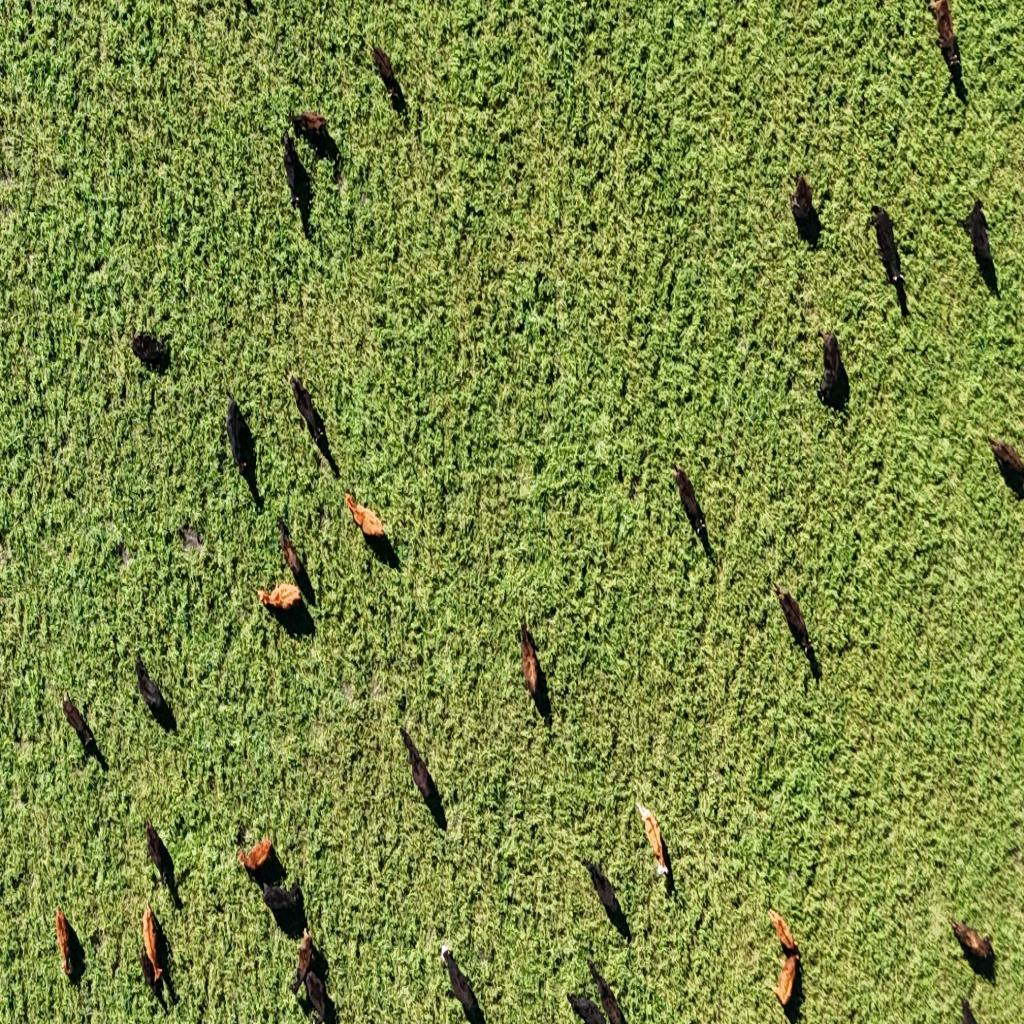cow: (928, 0, 971, 101), (290, 374, 335, 470), (772, 580, 816, 670), (401, 728, 443, 818), (581, 857, 628, 936), (442, 942, 486, 1022), (960, 197, 997, 287), (867, 206, 905, 290), (62, 693, 103, 766), (226, 395, 256, 493), (672, 464, 708, 544), (636, 798, 670, 879), (134, 652, 170, 728), (280, 129, 310, 218), (518, 620, 546, 714), (587, 959, 627, 1023), (260, 878, 304, 935), (817, 330, 846, 408), (950, 918, 995, 968), (144, 818, 174, 893), (142, 902, 167, 990), (768, 951, 802, 1015), (370, 44, 403, 108), (986, 436, 1022, 494), (344, 492, 385, 540), (278, 520, 307, 587), (764, 895, 797, 951), (791, 173, 819, 234), (130, 331, 171, 372), (236, 836, 276, 878), (55, 905, 77, 978), (291, 925, 315, 991), (302, 968, 328, 1024), (566, 992, 608, 1024), (290, 109, 329, 142), (257, 582, 301, 611), (179, 525, 205, 553)
